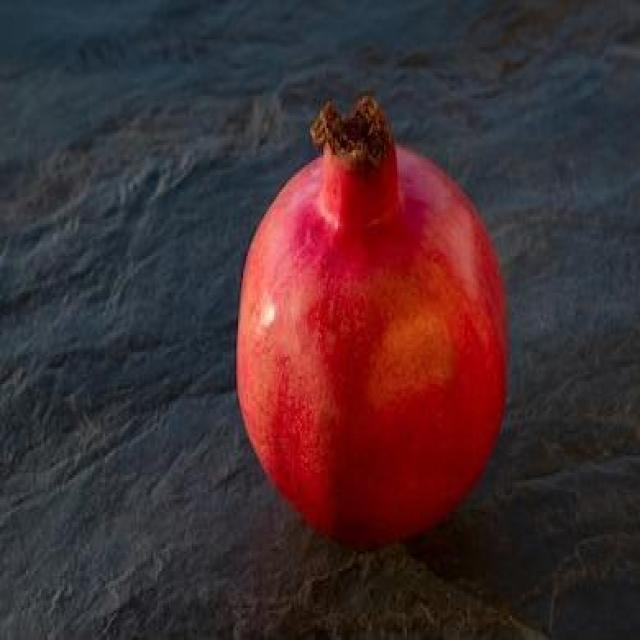Pomegranate: (235, 95, 509, 547)
